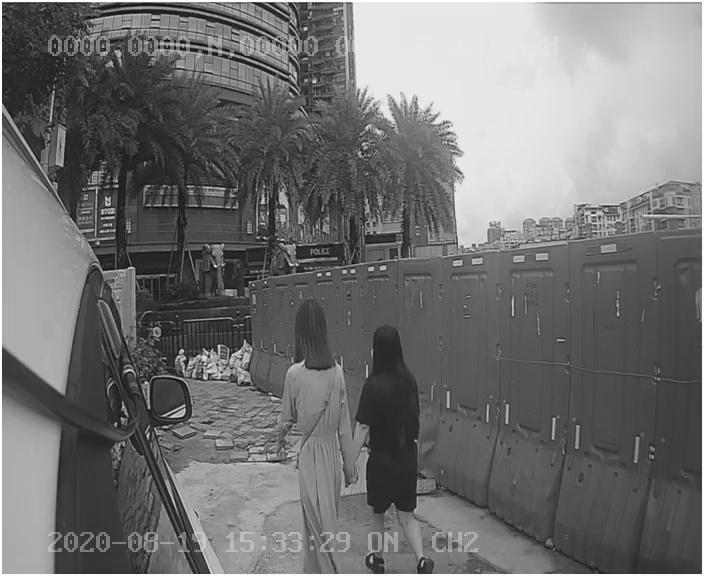person: (251, 301, 358, 536), (343, 320, 448, 529)
